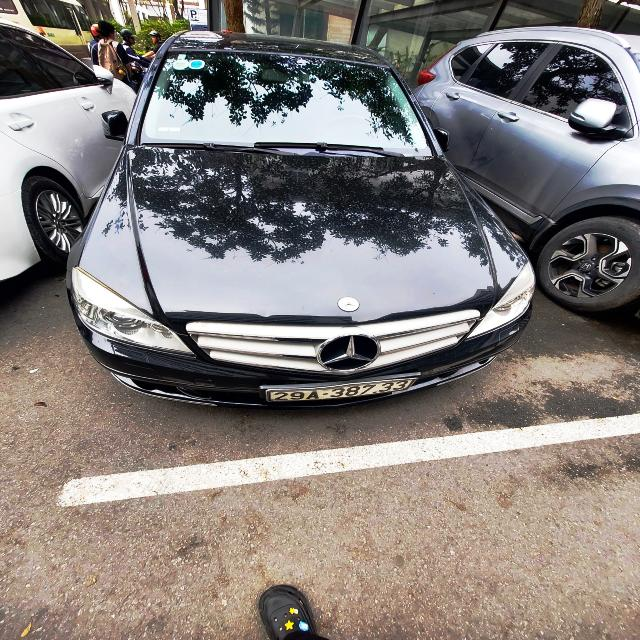license_plate: (269, 380, 418, 405)
